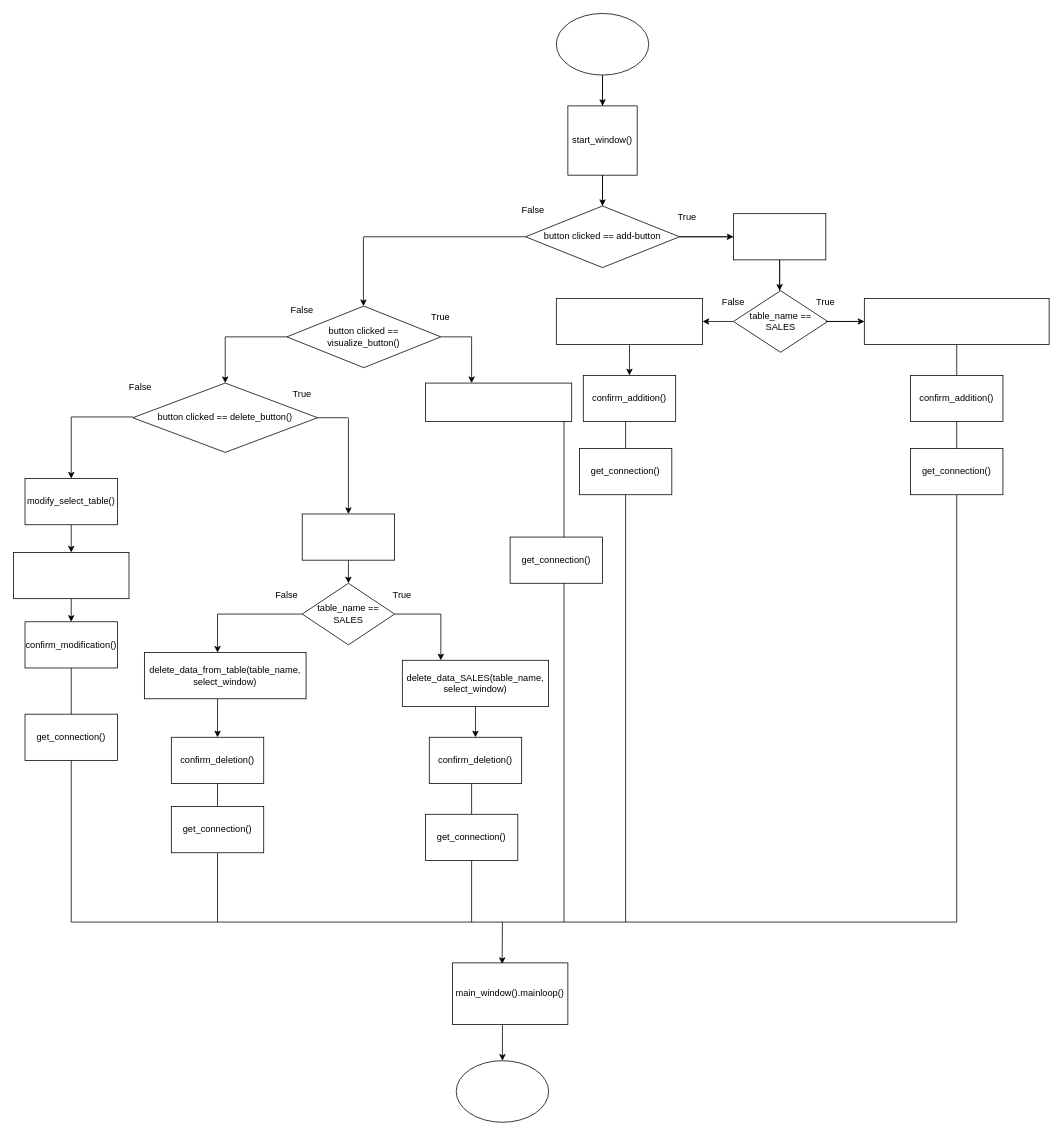
This 1063x1136 diagram has some shape labels left out. Here are the shapes that lost their labels. From the top down, the centre of each, then its label:
At point 602,44: "Inicio".
At point 779,236: "add_select_table()".
At point 629,321: "add_data_to_table(table_name, del_window)".
At point 956,321: "add_data_to_table_SALES(table_name, select_window)".
At point 498,402: "visualize_table_data(table_name)".
At point 348,536: "delete_select_table".
At point 71,575: "modify_data(table_name, select_window)".
At point 502,1091: "Fin".
